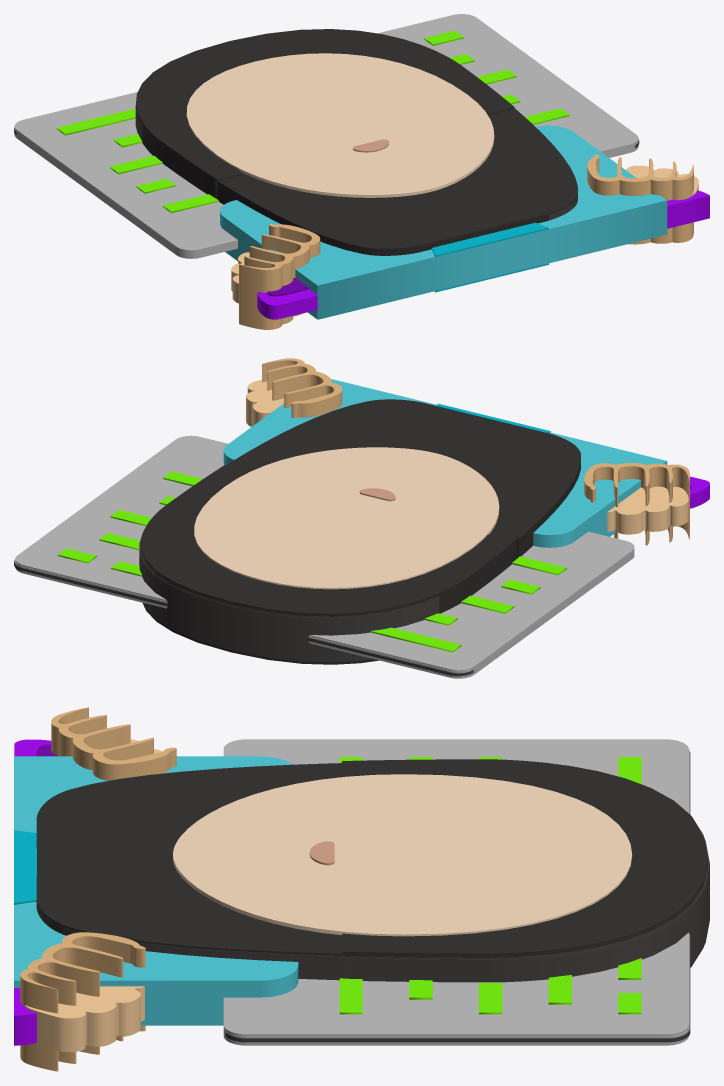
File: emoji_u1f469_1f3fb_200d_1f4bb.glb
3 renders of one model, top to bottom at view 1: azimuth 30°, elevation 25°; view 2: azimuth 150°, elevation 25°; view 3: azimuth 270°, elevation 25°, orthographic. The views are drawn at different scales.
Visible parts, largest first — view 1: emoji_u1f469_1f3fb_200d_1f4bb; view 2: emoji_u1f469_1f3fb_200d_1f4bb; view 3: emoji_u1f469_1f3fb_200d_1f4bb.
Part boxes in pixels (left/top/right/bottom): emoji_u1f469_1f3fb_200d_1f4bb: left=14, top=14, right=709, bottom=329; emoji_u1f469_1f3fb_200d_1f4bb: left=14, top=358, right=709, bottom=678; emoji_u1f469_1f3fb_200d_1f4bb: left=14, top=707, right=709, bottom=1071.
Size of the model in its own units: 0.0339 by 0.0044 by 0.0337.
